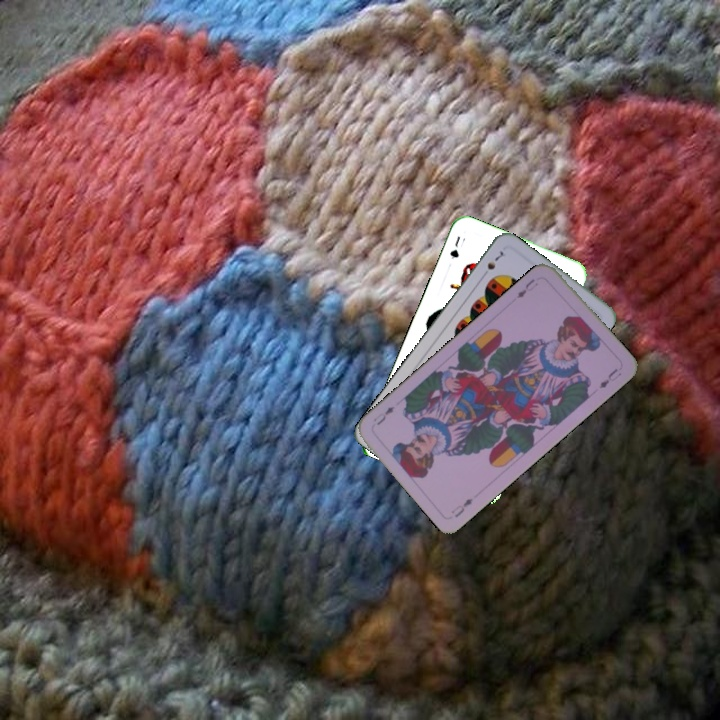EU: (512, 275, 541, 301), (447, 494, 476, 520)
GU: (446, 232, 463, 262)
S7: (478, 245, 508, 280)
